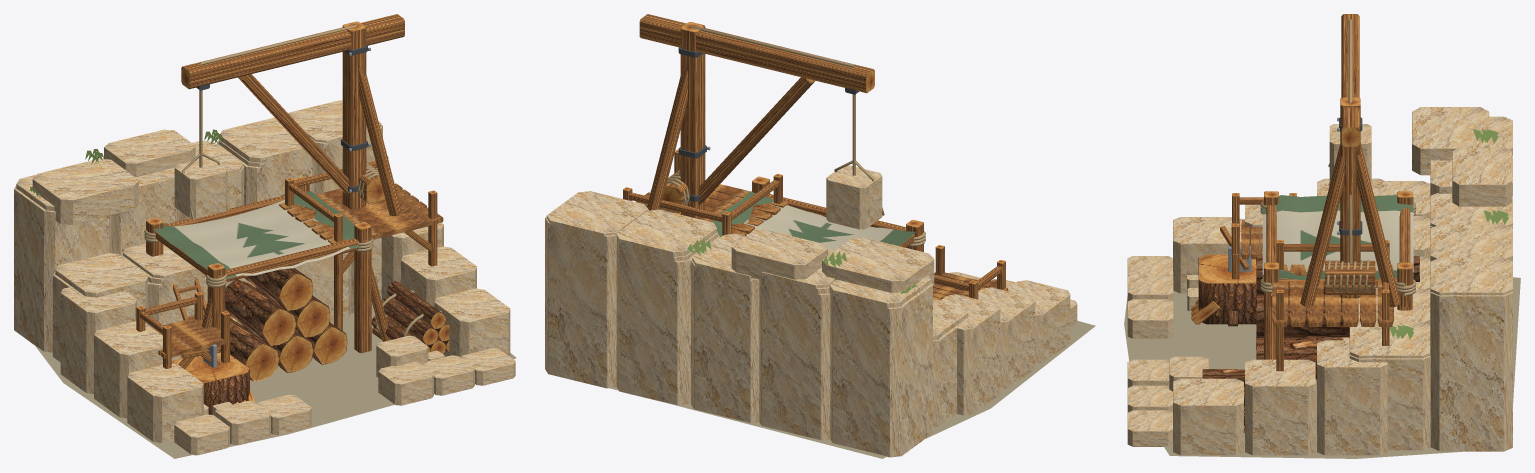
Rendered from RegionOneResources.glb.
3 renders of one model, left to right at view 1: azimuth 30°, elevation 25°; view 2: azimuth 150°, elevation 25°; view 3: azimuth 270°, elevation 25°, orthographic. The views are drawn at different scales.
Parts seen in each view (by area): view 1: Approved quarry carved mass derrick and platforms 0, Approved bound timber rack canopy stump axe and side bundle  (×3), Approved quarry carved mass derrick and platforms 2, Approved quarry carved mass derrick and platforms 1, Quarry cleared extraction floor 0; view 2: Approved quarry carved mass derrick and platforms 0, Approved quarry carved mass derrick and platforms 1, Approved quarry carved mass derrick and platforms 2, Approved bound timber rack canopy stump axe and side bundle , Quarry cleared extraction floor 0; view 3: Approved quarry carved mass derrick and platforms 0, Approved bound timber rack canopy stump axe and side bundle  (×3), Approved quarry carved mass derrick and platforms 1, Approved quarry carved mass derrick and platforms 2, Quarry cleared extraction floor 0.
Boxes of the visible parts, x1=… form: Approved quarry carved mass derrick and platforms 0: x1=14, y1=14, x2=515, y2=455; Approved bound timber rack canopy stump axe and side bundle  (×3): x1=144, y1=177, x2=449, y2=414; Approved quarry carved mass derrick and platforms 2: x1=16, y1=117, x2=510, y2=442; Approved quarry carved mass derrick and platforms 1: x1=16, y1=100, x2=510, y2=442; Quarry cleared extraction floor 0: x1=35, y1=311, x2=516, y2=458; Approved quarry carved mass derrick and platforms 0: x1=545, y1=14, x2=1077, y2=457; Approved quarry carved mass derrick and platforms 1: x1=546, y1=191, x2=1070, y2=454; Approved quarry carved mass derrick and platforms 2: x1=553, y1=207, x2=1070, y2=455; Approved bound timber rack canopy stump axe and side bundle : x1=711, y1=176, x2=996, y2=284; Quarry cleared extraction floor 0: x1=609, y1=321, x2=1095, y2=458; Approved quarry carved mass derrick and platforms 0: x1=1127, y1=14, x2=1512, y2=455; Approved bound timber rack canopy stump axe and side bundle  (×3): x1=1190, y1=191, x2=1419, y2=432; Approved quarry carved mass derrick and platforms 1: x1=1173, y1=204, x2=1512, y2=455; Approved quarry carved mass derrick and platforms 2: x1=1173, y1=116, x2=1512, y2=455; Quarry cleared extraction floor 0: x1=1124, y1=277, x2=1520, y2=458.
Bounding box in the file's own units: 13.2 × 9.98 × 11.3.
Materials: 10 (5 with a texture image).
